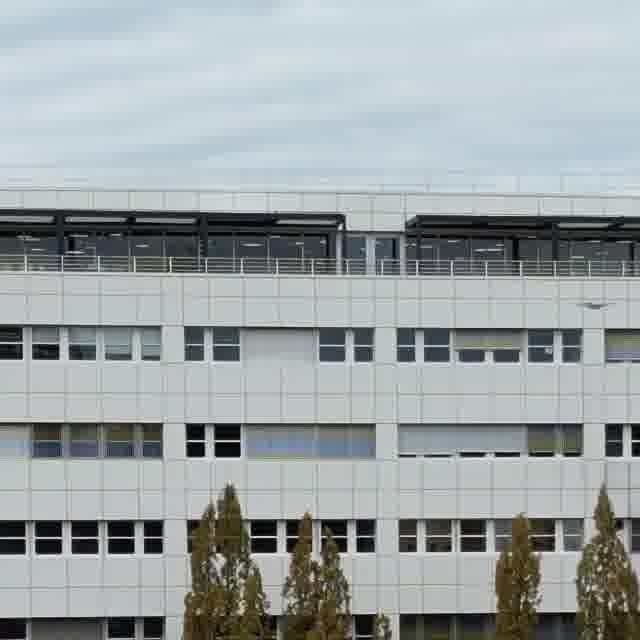Drohne: (582, 302, 607, 309)
